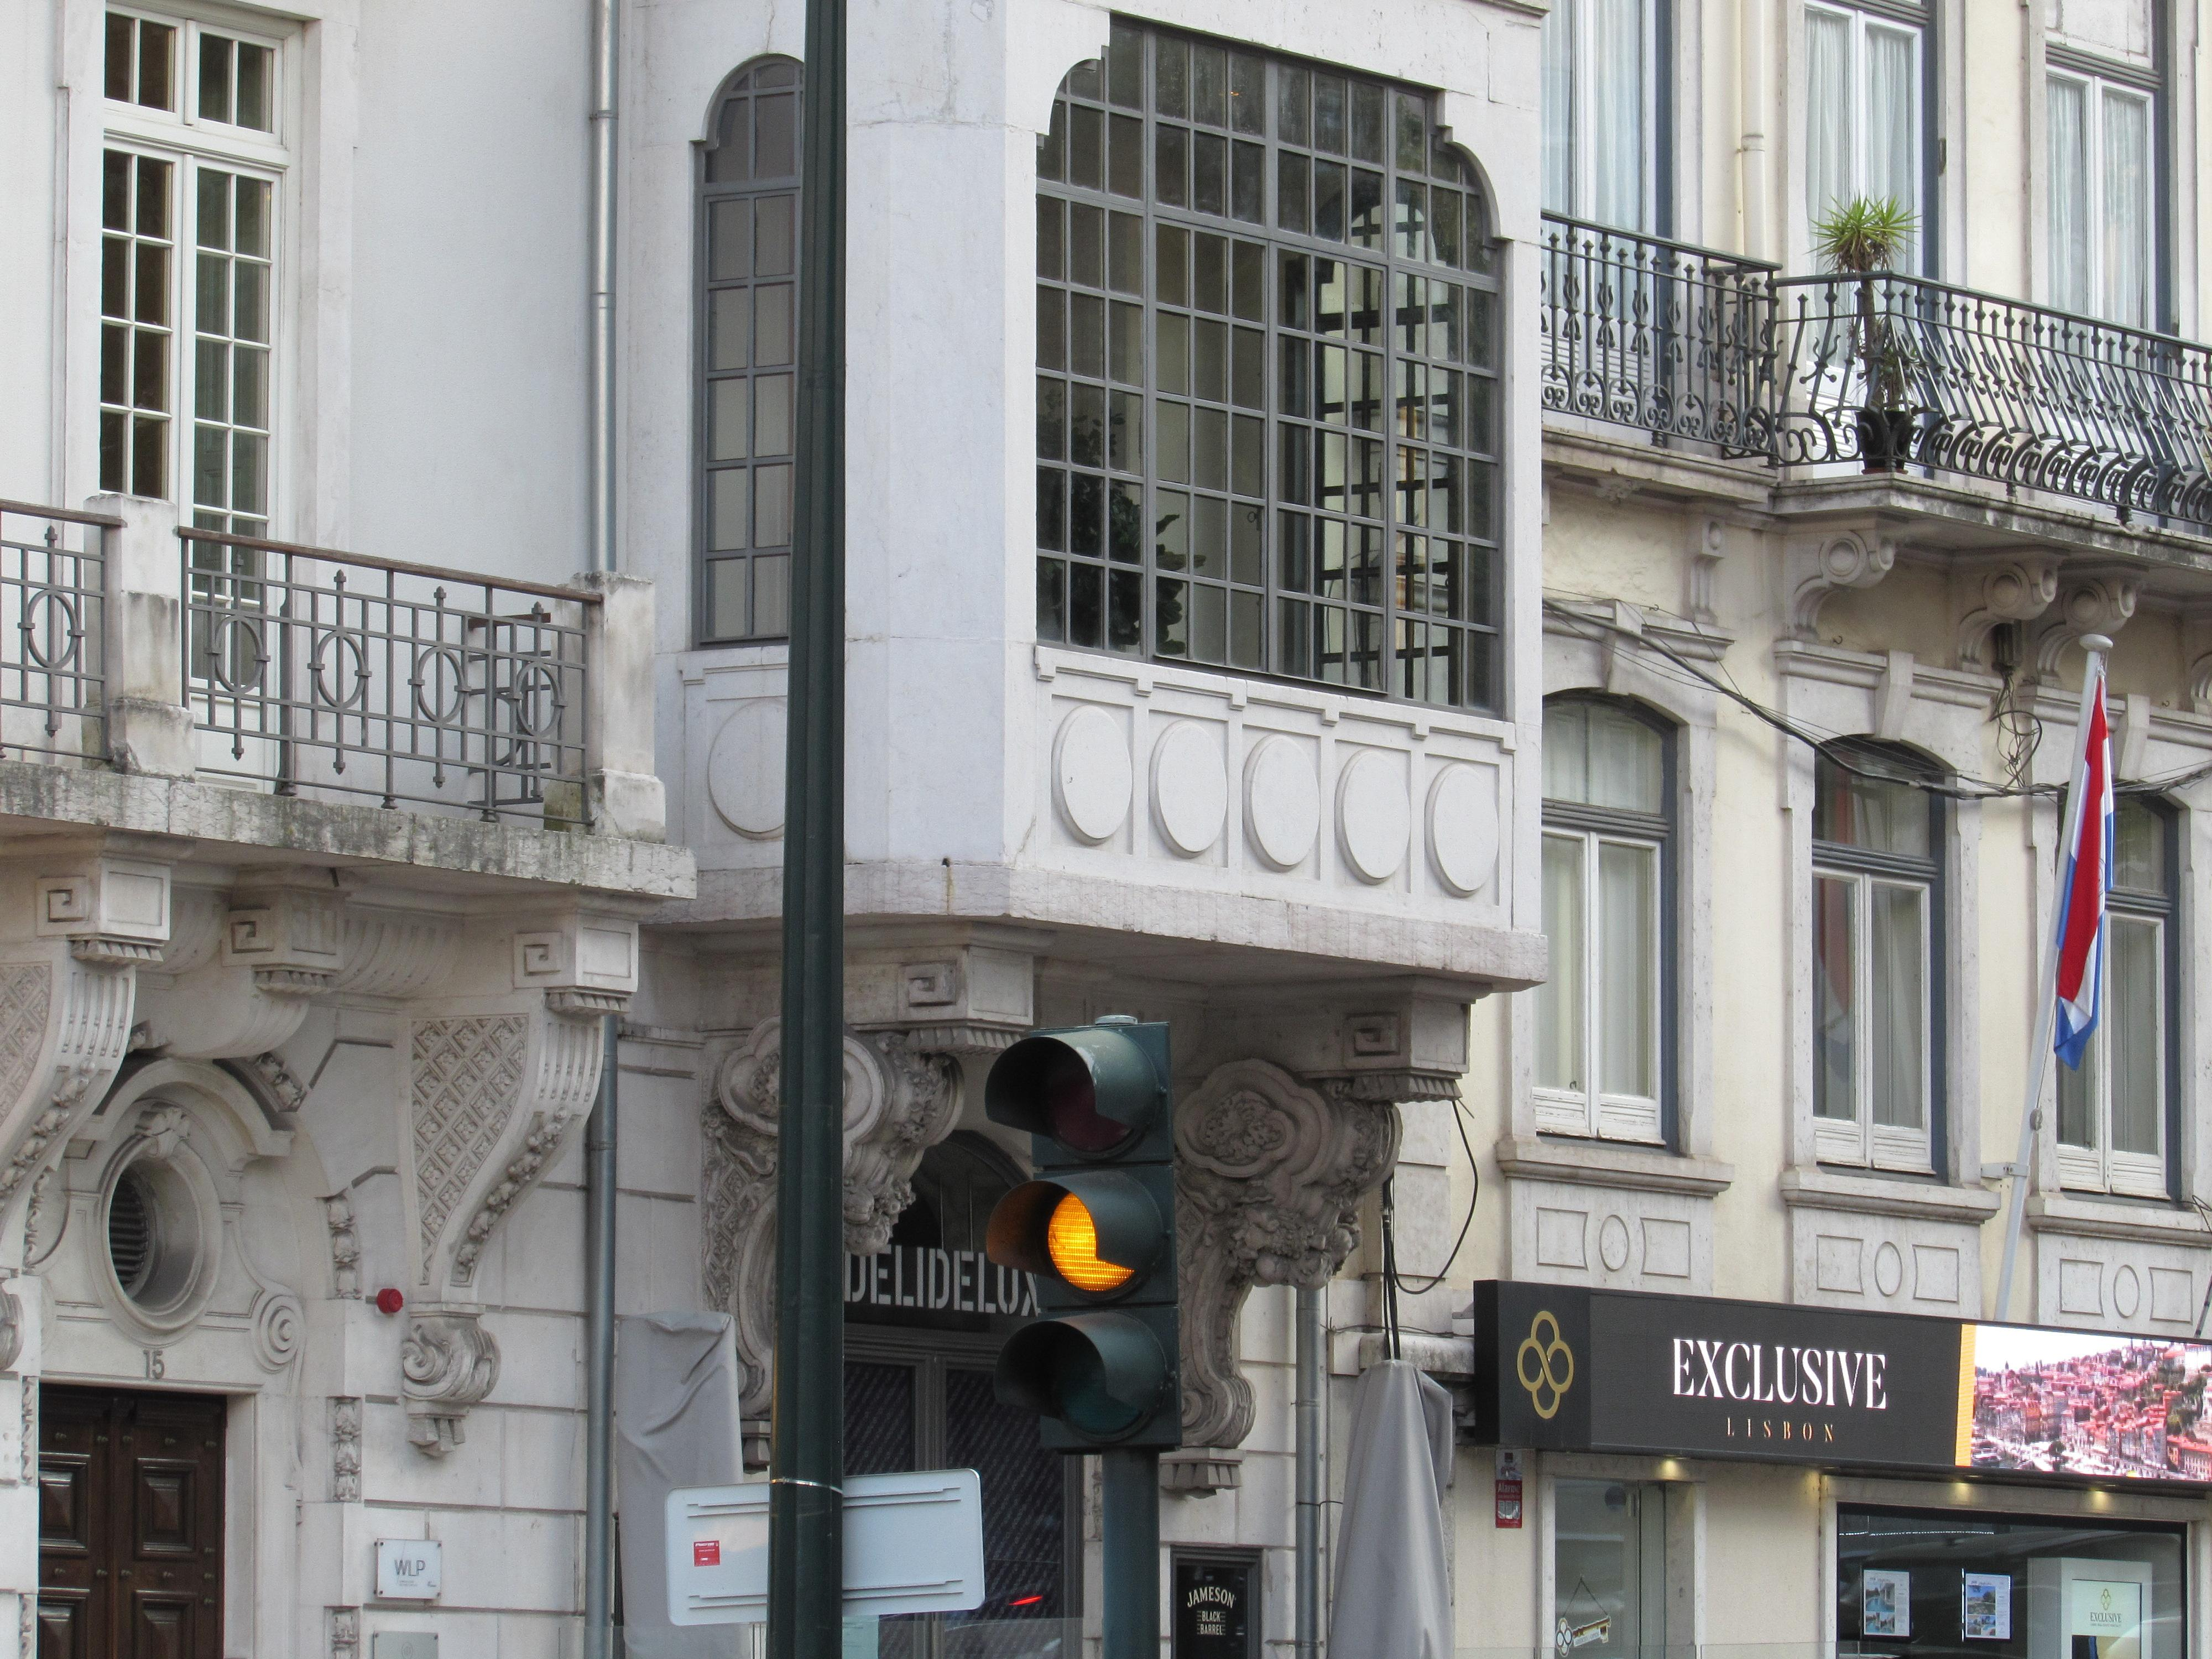yellow_light: (986, 1023, 1183, 1452)
